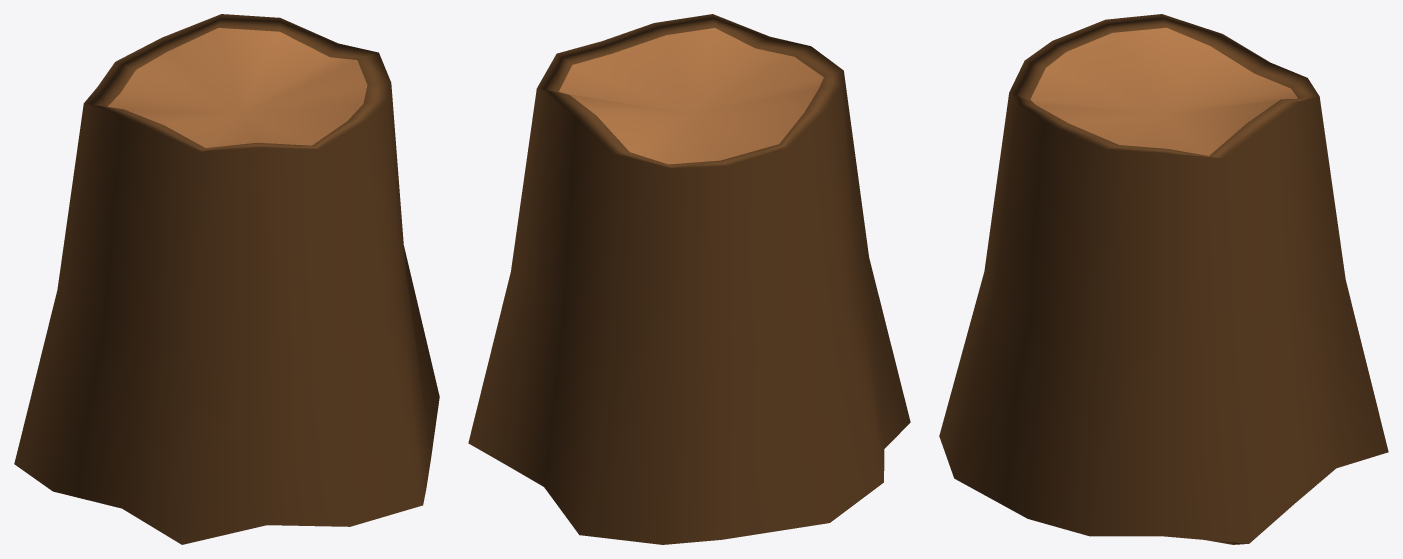
Rendered from Tree_Stump_1.glb.
3 renders of one model, left to right at view 1: azimuth 30°, elevation 25°; view 2: azimuth 150°, elevation 25°; view 3: azimuth 270°, elevation 25°, orthographic.
Visible parts, largest first — view 1: Tree_Stump_1; view 2: Tree_Stump_1; view 3: Tree_Stump_1.
Part boxes in pixels (x1=…): Tree_Stump_1: x1=14, y1=14, x2=439, y2=544; Tree_Stump_1: x1=468, y1=14, x2=910, y2=544; Tree_Stump_1: x1=939, y1=14, x2=1388, y2=544.
Size of the model in its own units: 0.6336 by 0.6172 by 0.642.
1 material, 1 textured.
